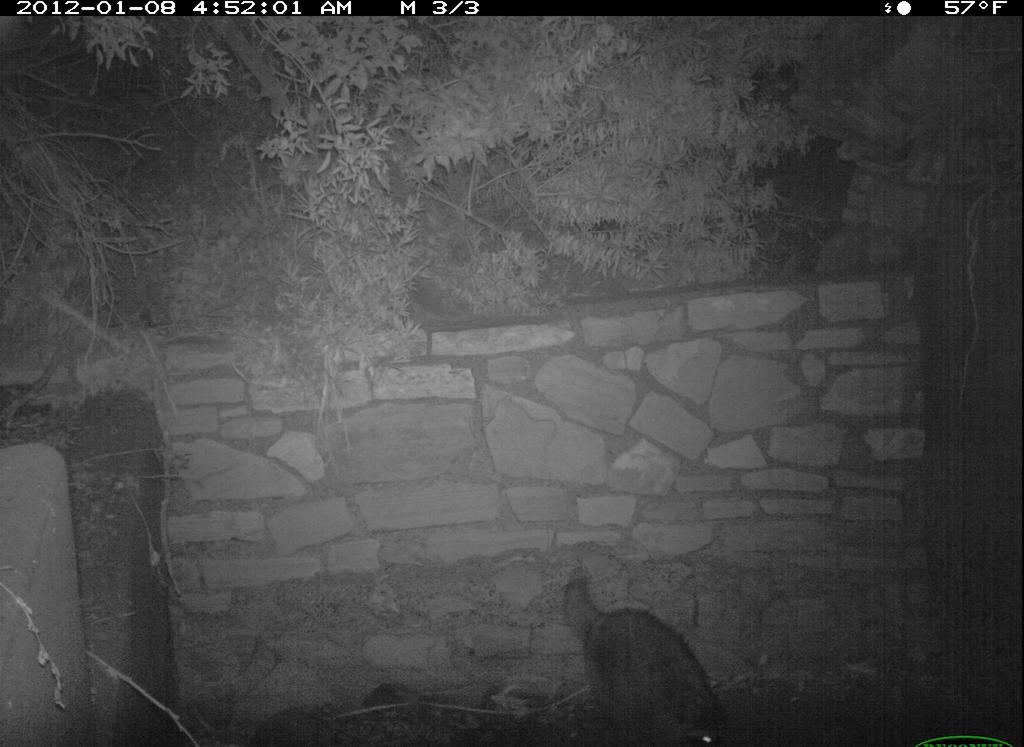raccoon: (555, 555, 745, 742)
